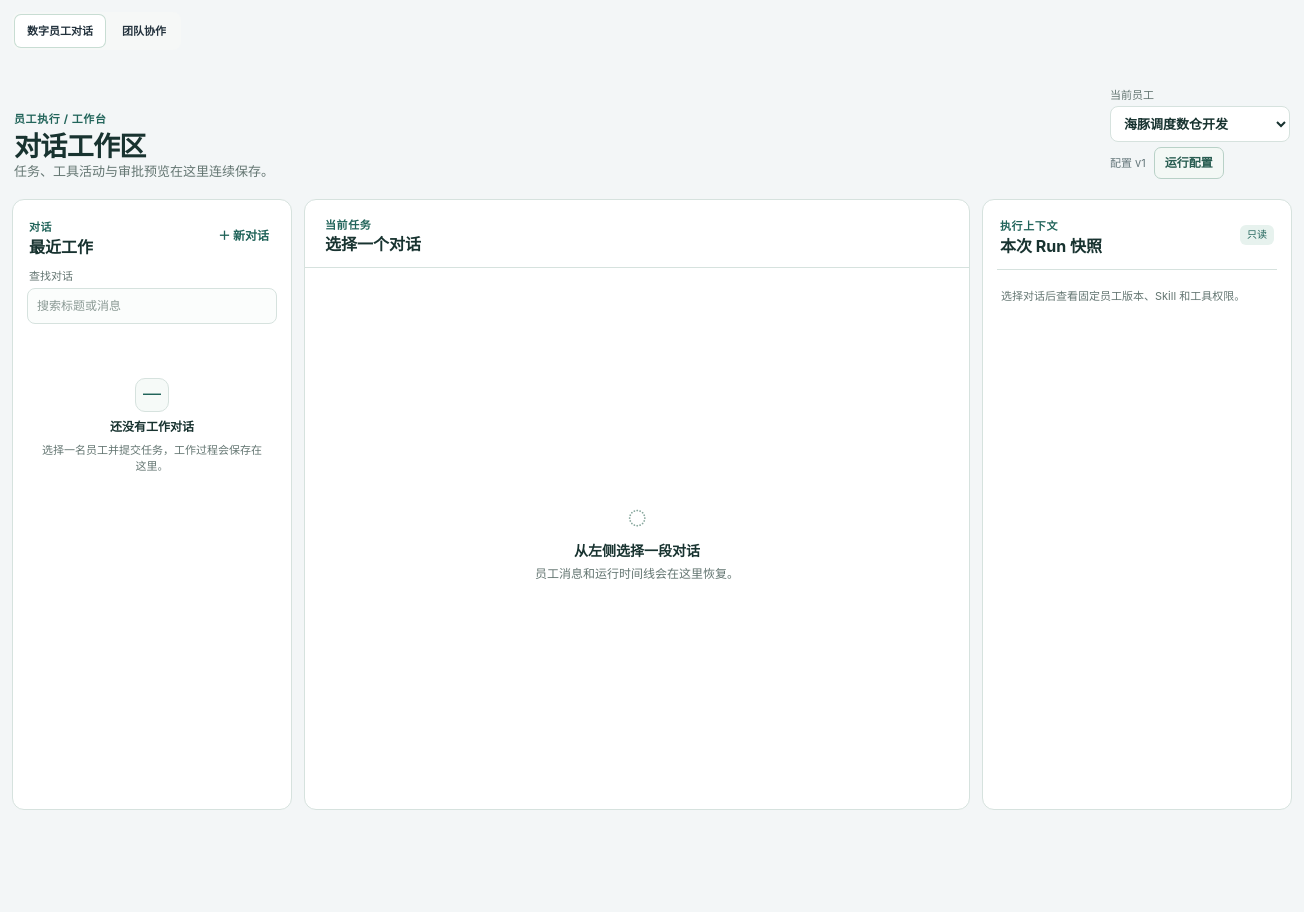
Test case: creates a new conversation from the selected active employee deployment
The width and height of the screenshot is (1304, 912).
Expected: the text "还没有工作对话" is shown, [110,420,194,434]
Click the button "＋ 新对话" at (244, 236), box [212,228,275,244]
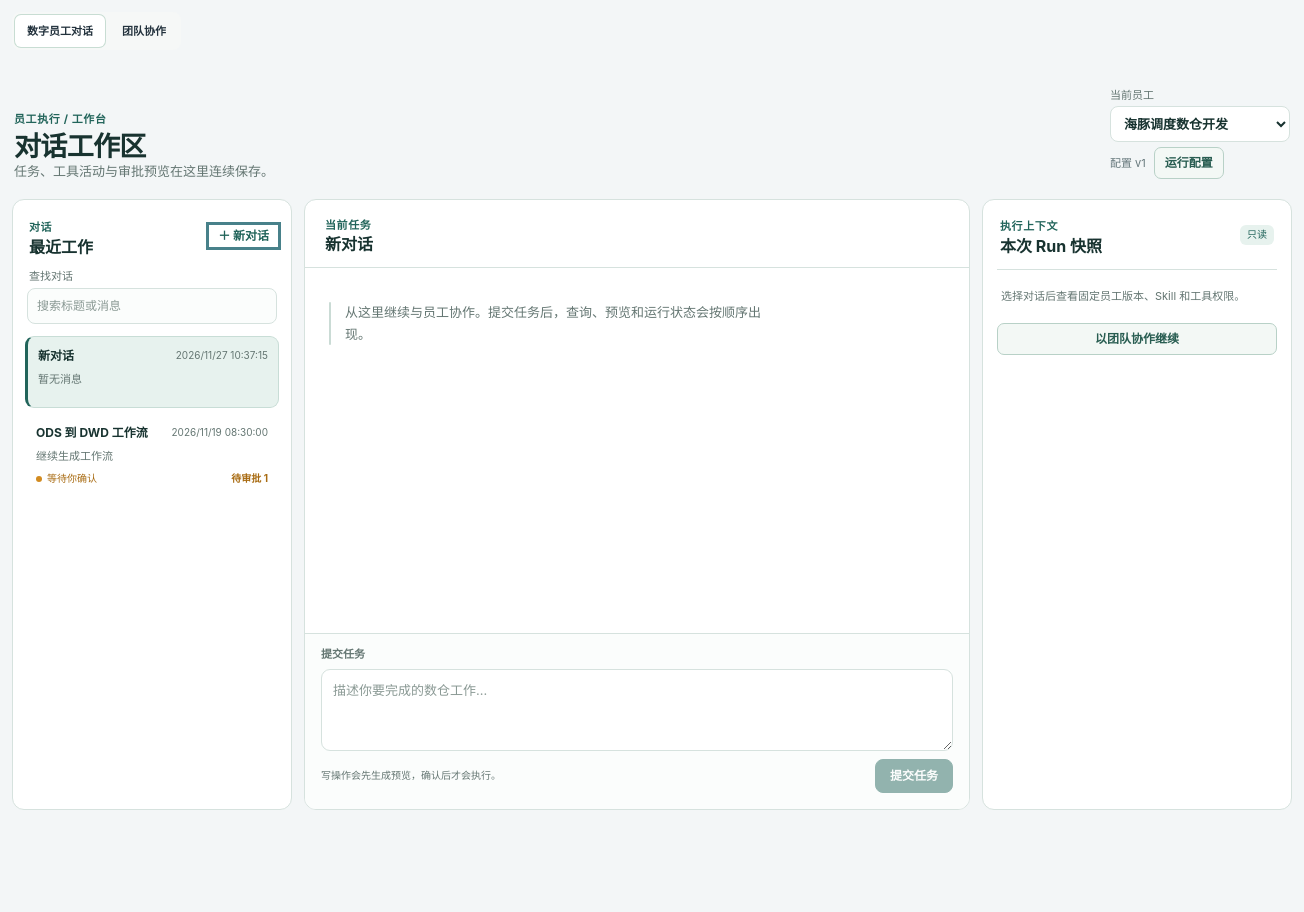
Expected: the text "从这里继续与员工协作。提交任务后，查询、预览和运行状态会按顺序出现。" is shown, [345,302,769,345]
